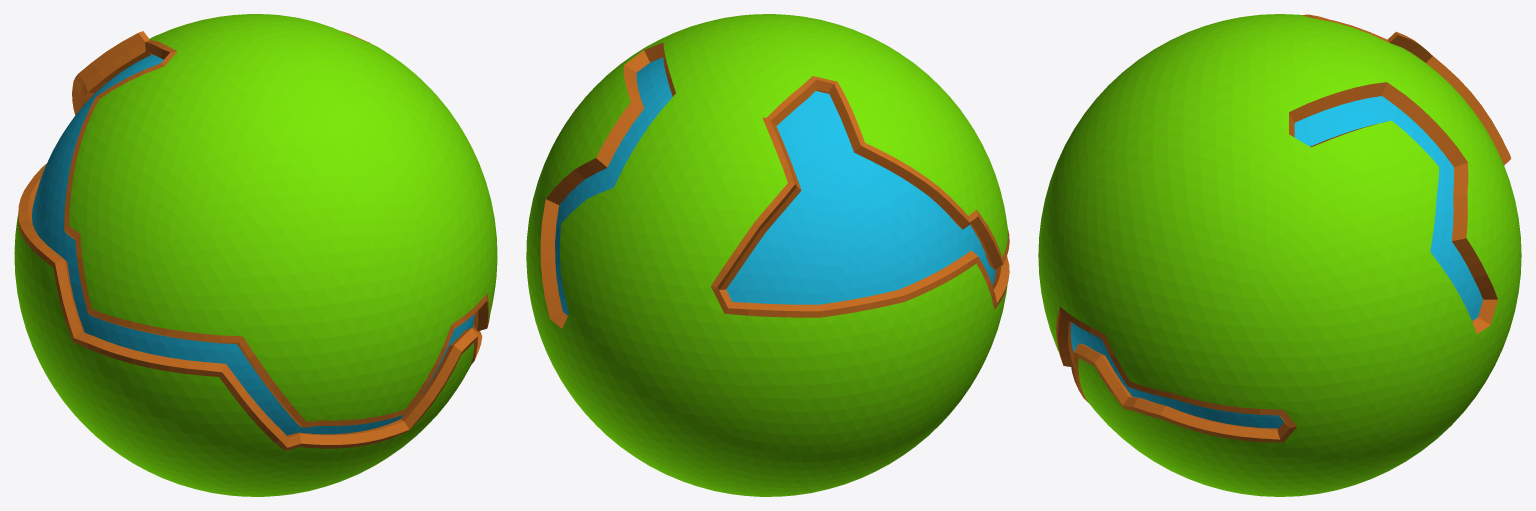
File: The1.fbx
3 views of the same model, side by side, from view 1: azimuth 30°, elevation 25°; view 2: azimuth 150°, elevation 25°; view 3: azimuth 270°, elevation 25° (orthographic).
Visible parts, largest first — view 1: The1, Cop2.004, Cop2.008; view 2: The1, Cop2.004, Cop2.005, Cop2.008; view 3: The1, Cop2.005, Cop2.004, Cop2.008.
Part boxes in pixels (bbox=[...]): The1: bbox=[14, 14, 497, 496]; Cop2.004: bbox=[18, 40, 489, 450]; Cop2.008: bbox=[72, 31, 149, 115]; The1: bbox=[526, 14, 1008, 496]; Cop2.004: bbox=[712, 76, 1009, 317]; Cop2.005: bbox=[540, 42, 675, 328]; Cop2.008: bbox=[711, 117, 796, 289]; The1: bbox=[1038, 14, 1521, 496]; Cop2.005: bbox=[1289, 82, 1497, 333]; Cop2.004: bbox=[1056, 14, 1389, 442]; Cop2.008: bbox=[1387, 31, 1511, 165].
Size of the model in its own units: 1480 by 1480 by 1480.
